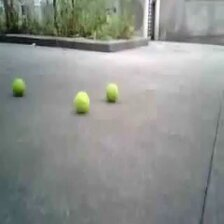tennis: (75, 91, 89, 113), (105, 83, 119, 101), (12, 77, 24, 95)
